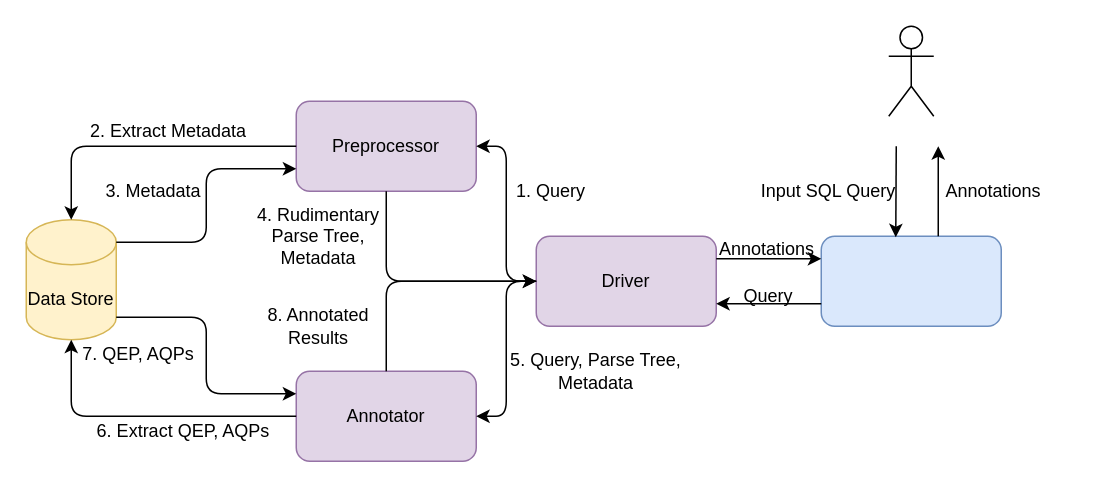
Image size: 1118x488. Some labels were removed from this diagram. Each missing label, with the centre of its shape:
"Actor" belongs at pixel 910 70.
"Frontend" belongs at pixel 910 280.
